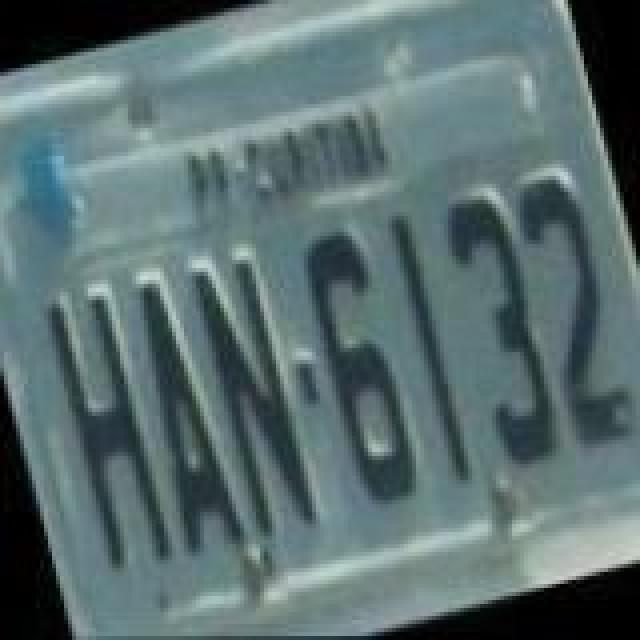1: (382, 206, 482, 490)
2: (504, 160, 640, 460)
3: (434, 180, 574, 480)
6: (290, 216, 430, 516)
A: (112, 256, 252, 568)
H: (32, 272, 180, 584)
N: (180, 236, 328, 548)
